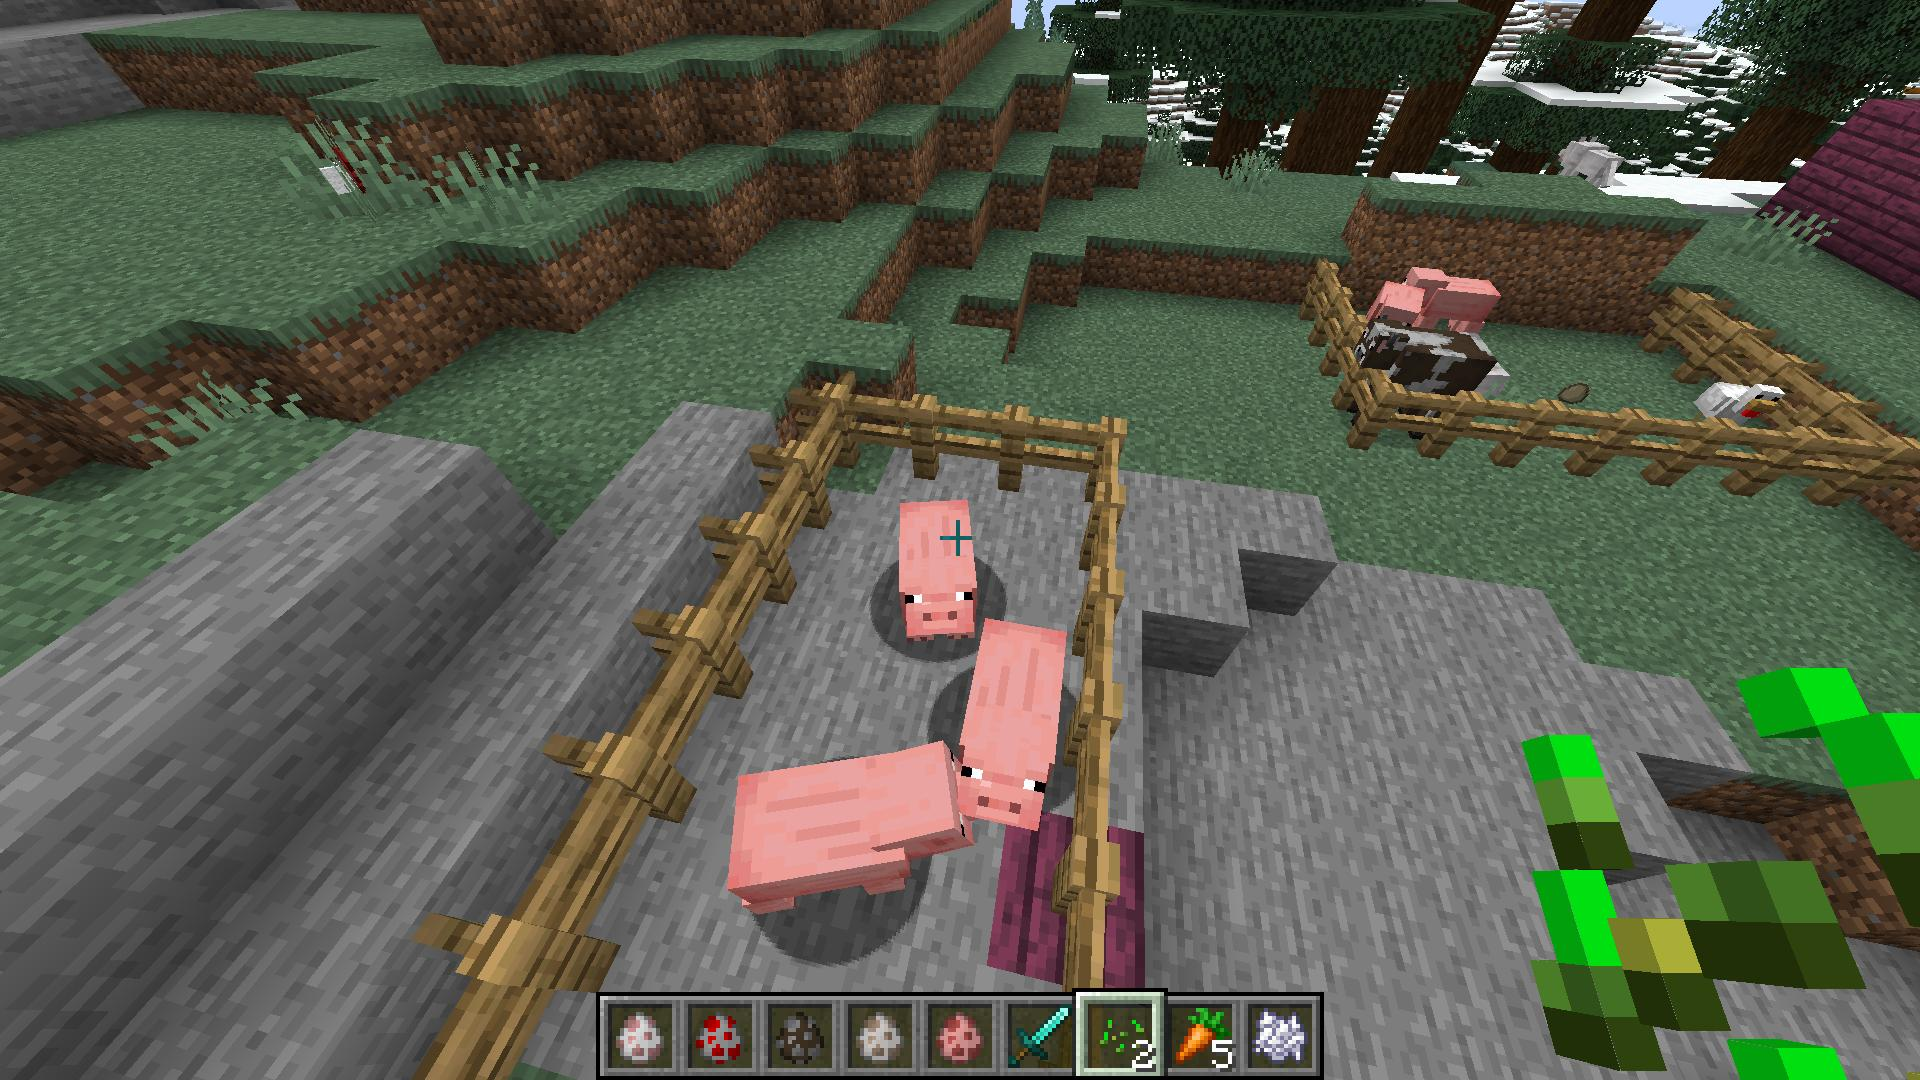pig: (728, 737, 980, 915), (952, 618, 1076, 833), (890, 493, 985, 642)
